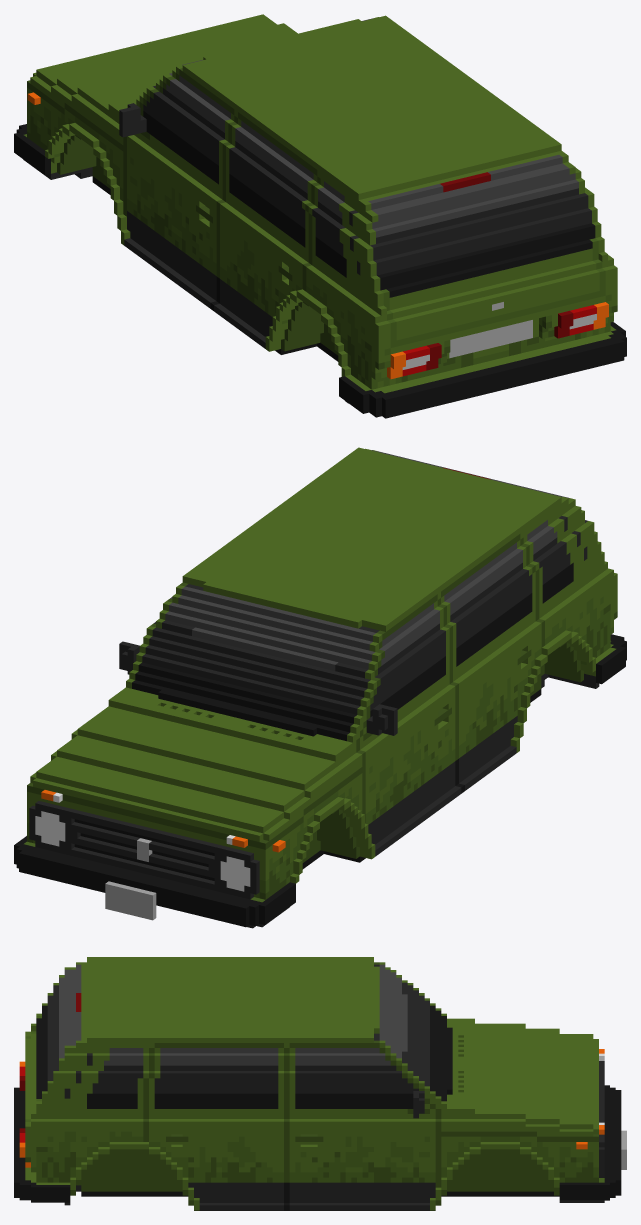
3 views of the same model, one above another, from view 1: azimuth 30°, elevation 25°; view 2: azimuth 150°, elevation 25°; view 3: azimuth 270°, elevation 25° (orthographic). The views are drawn at different scales.
Visible parts, largest first — view 1: VOX; view 2: VOX; view 3: VOX.
Part boxes in pixels (x1,y1,x2,y2): VOX: [14, 14, 626, 418]; VOX: [14, 447, 626, 928]; VOX: [14, 957, 626, 1210].
Size of the model in its own units: 0.046 by 0.033 by 0.109.
